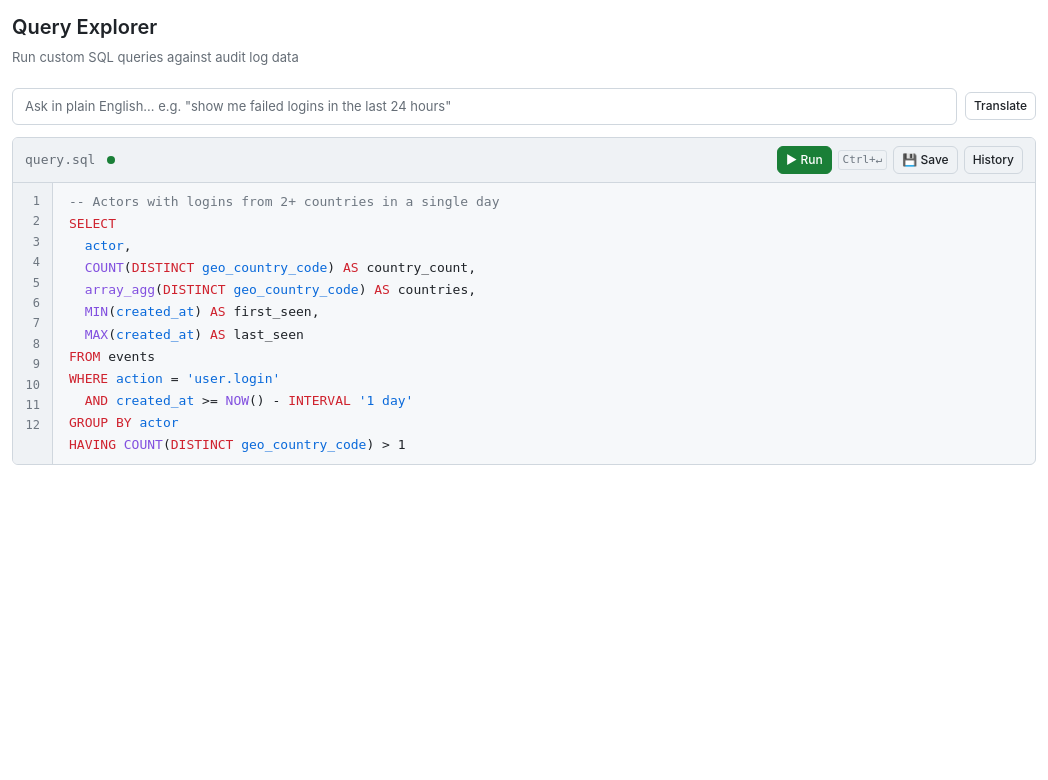
Scenario: QueryPage › closes history dropdown when backdrop is clicked
Click the button "History".
click(993, 160)  # box [964, 146, 1023, 174]
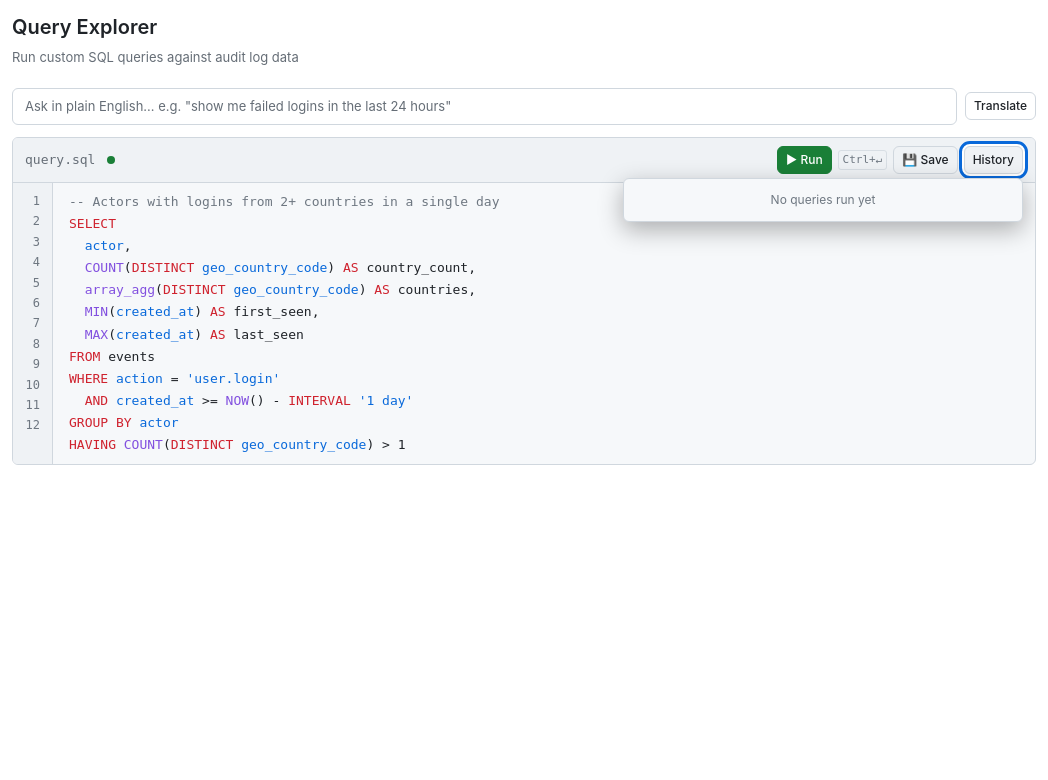
Expected: the text "No queries run yet" is shown, [771, 192, 875, 207]
Expected: the element with class "historyBackdrop" is shown
Click the element with class "historyBackdrop".
click(524, 396)  # box [12, 12, 1036, 779]
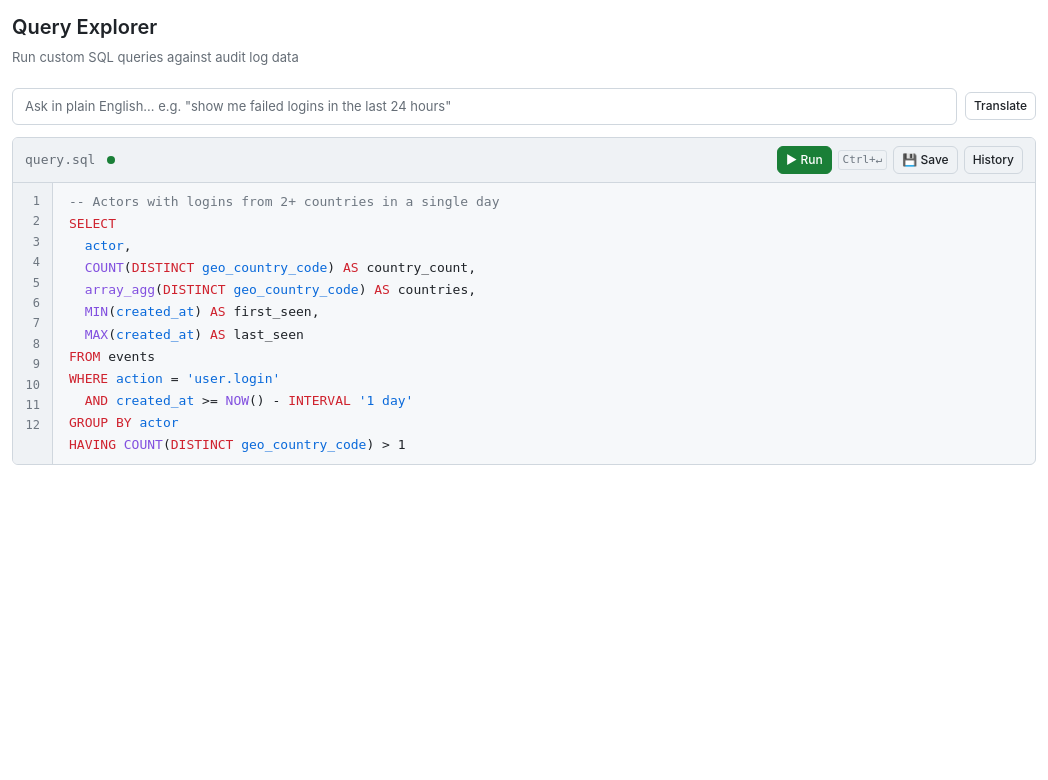
Expected: the text "No queries run yet" is gone
